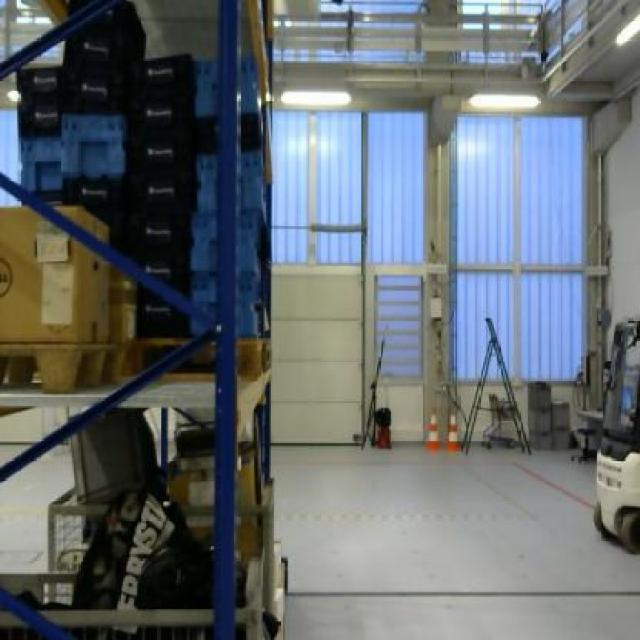box: (0, 203, 111, 342)
